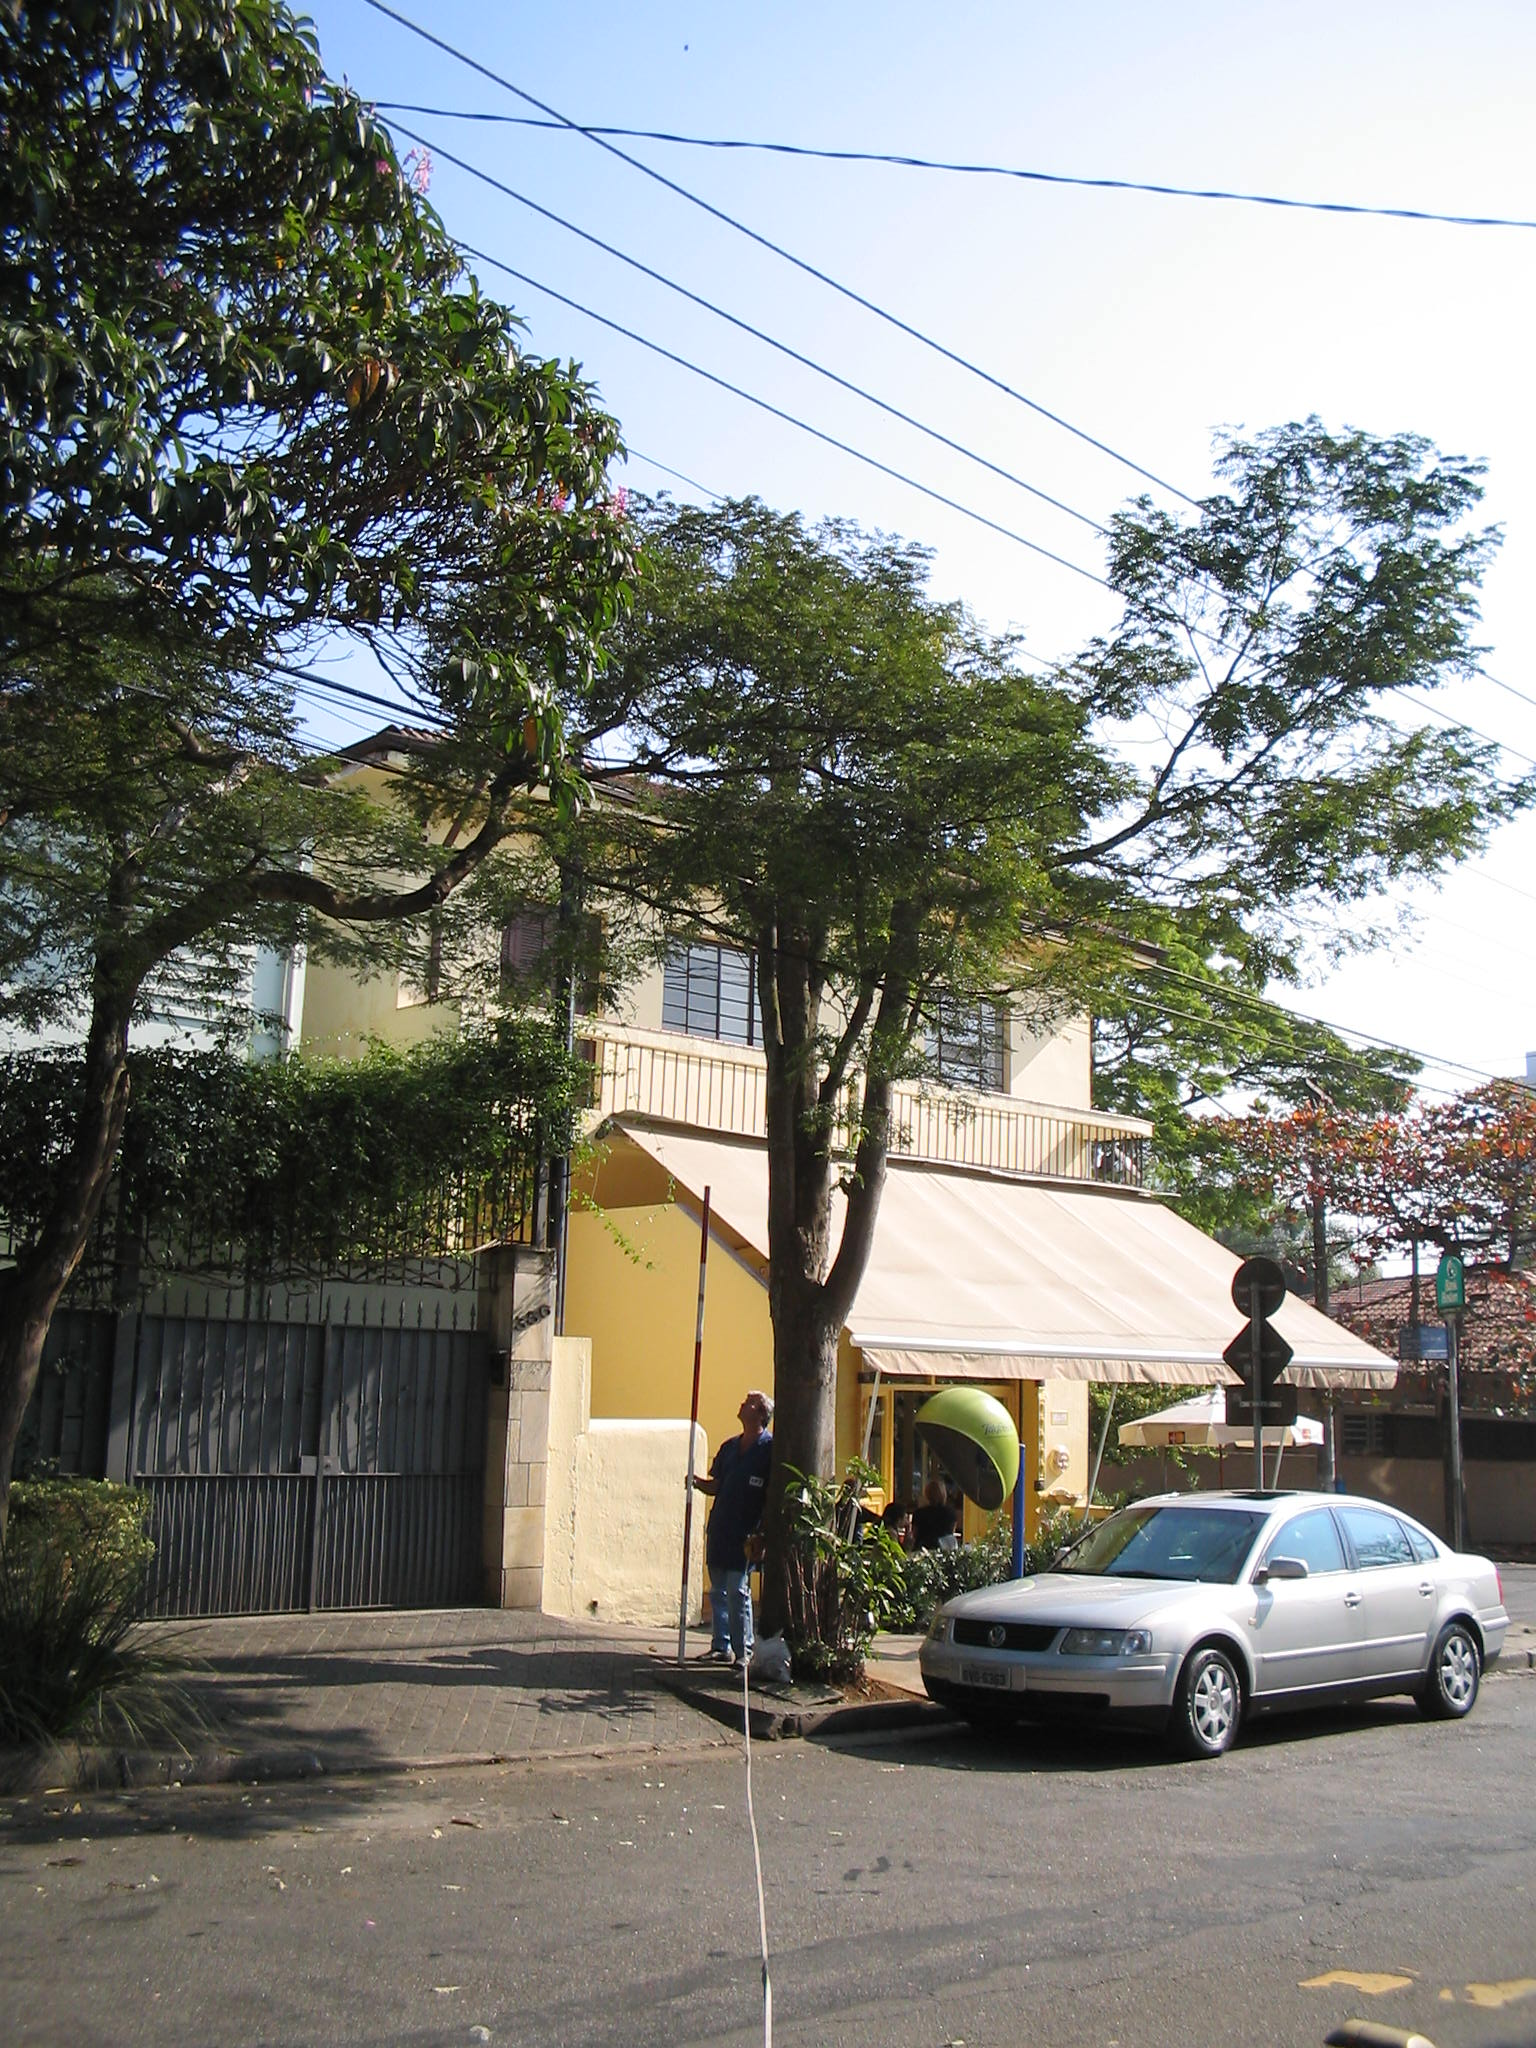crown: (19, 8, 628, 971), (611, 418, 1525, 1050)
stem: (18, 987, 168, 1711), (733, 1290, 892, 1663)
stick: (649, 1187, 744, 1666)
tree: (595, 413, 1530, 1671), (10, 3, 629, 1721)
